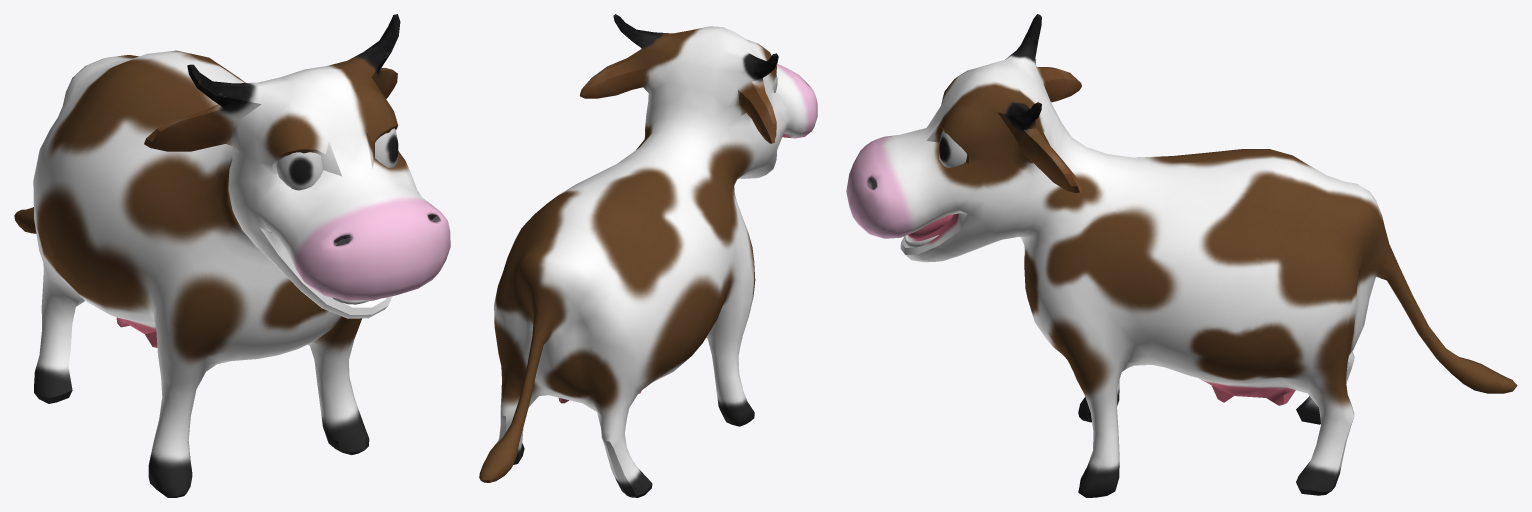
Rendered from Cow.fbx.
3 renders of one model, left to right at view 1: azimuth 30°, elevation 25°; view 2: azimuth 150°, elevation 25°; view 3: azimuth 270°, elevation 25°, orthographic. The views are drawn at different scales.
Visible parts, largest first — view 1: Cow; view 2: Cow; view 3: Cow.
Part boxes in pixels (x1,y1,x2,y2): Cow: (14, 14, 450, 497); Cow: (479, 14, 817, 497); Cow: (846, 14, 1517, 497).
Bounding box in the file's own units: 376 × 653 × 996.
